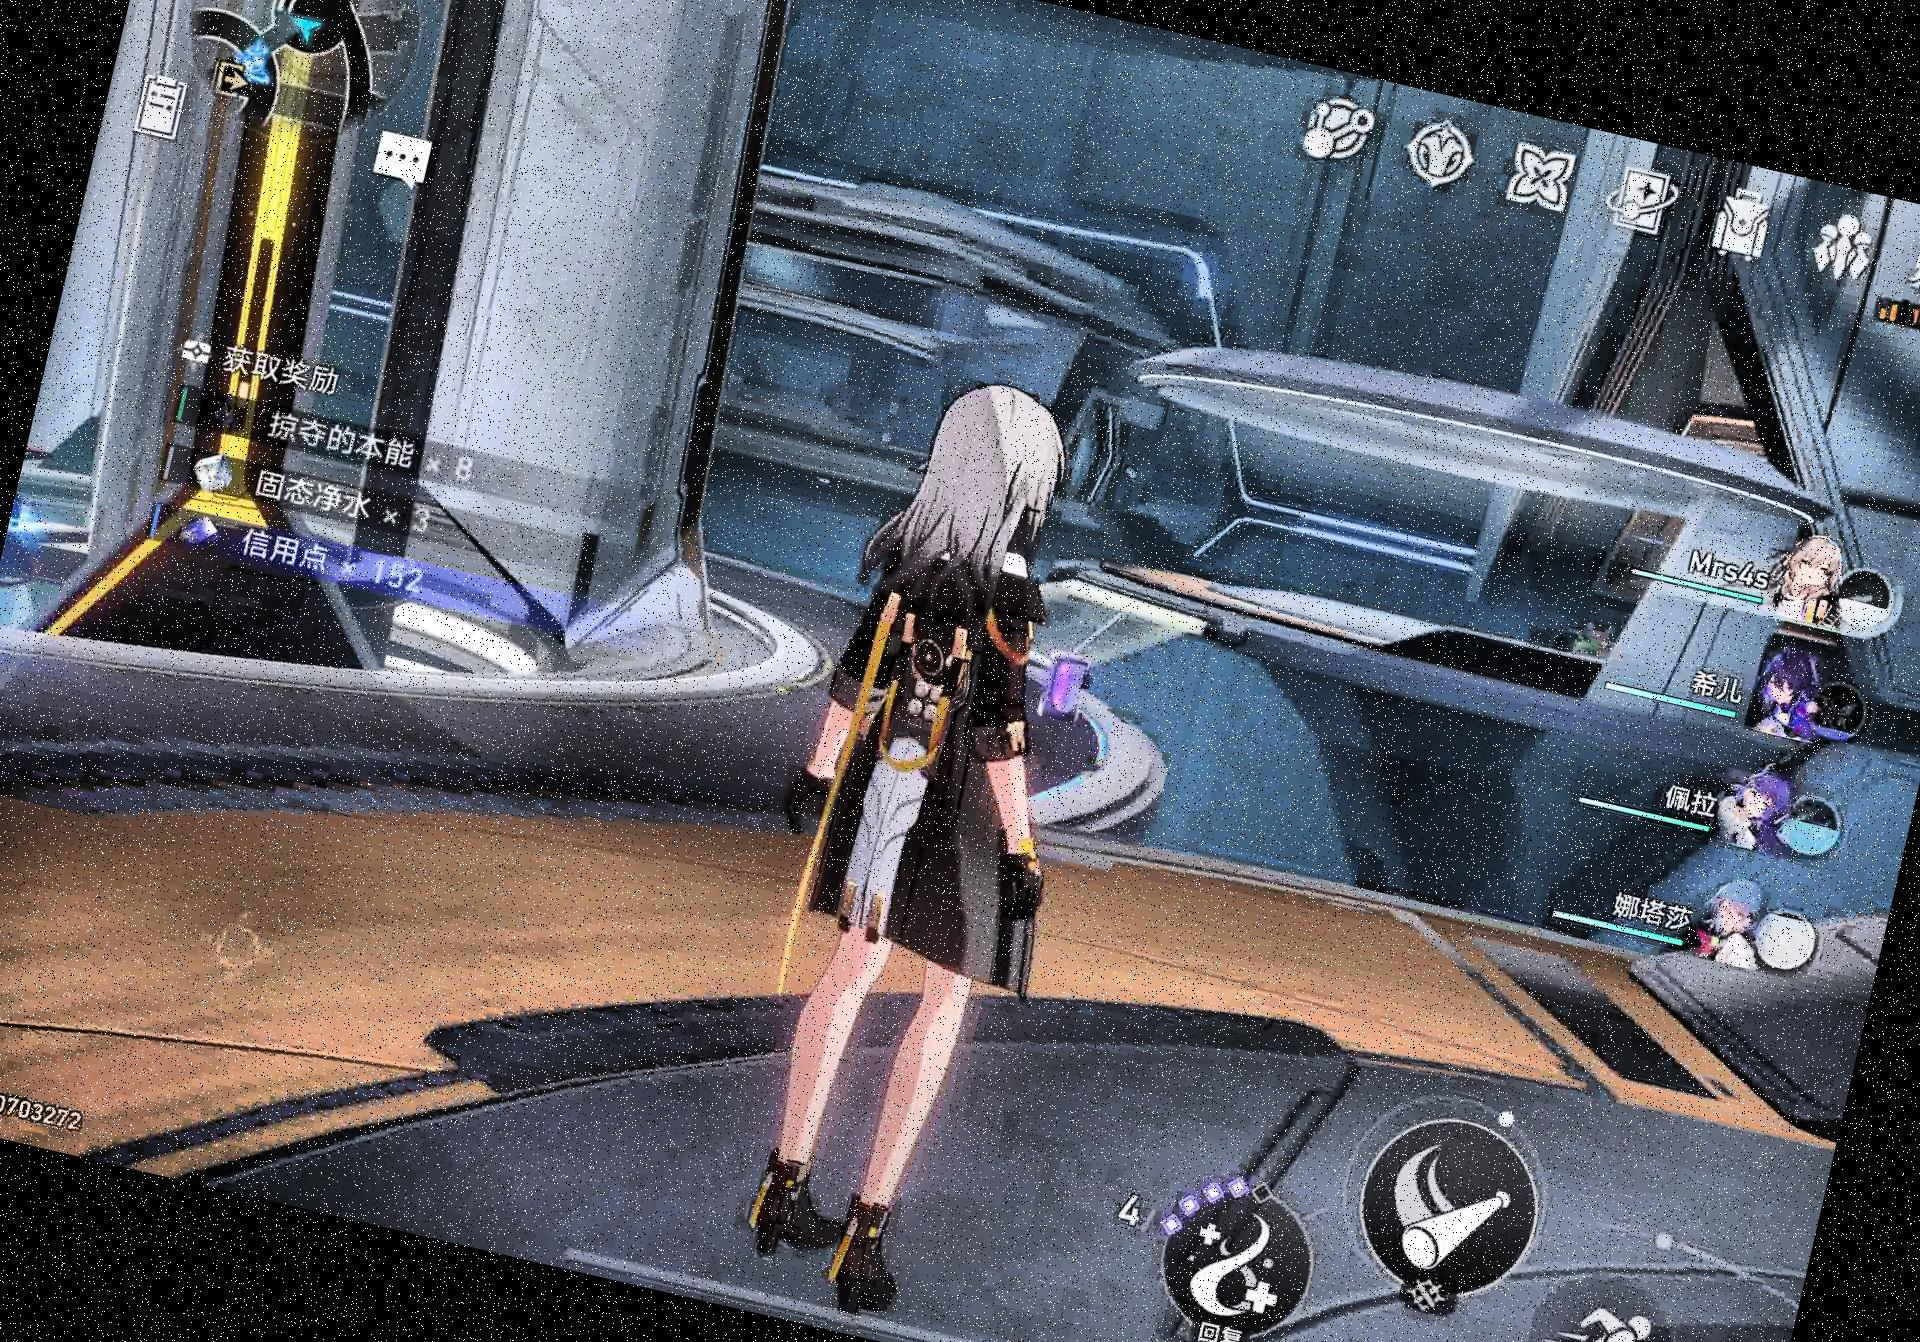Self: (665, 354, 1166, 1342)
